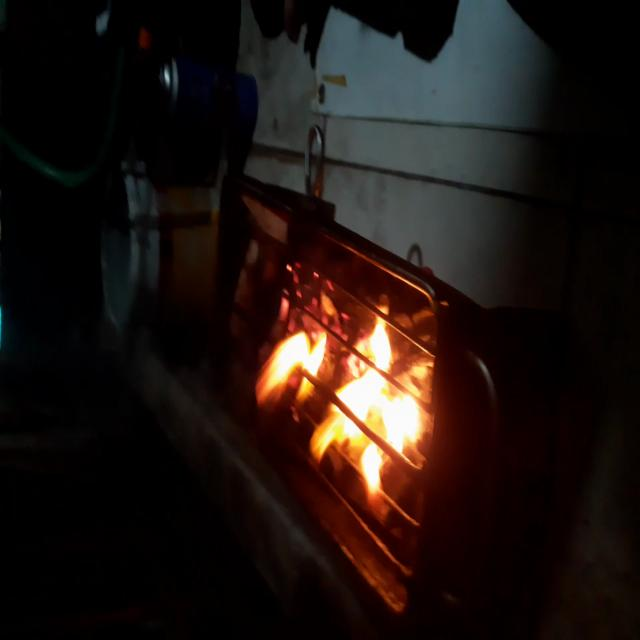Fire: (258, 321, 438, 498)
